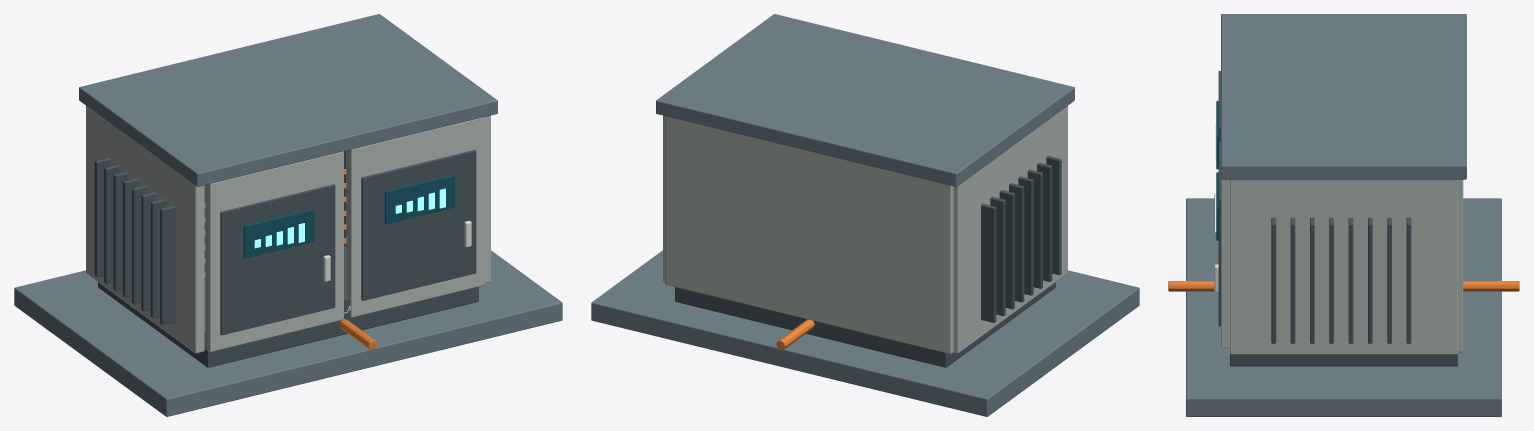
File: solar_power_station_d0.glb
3 views of the same model, side by side, from view 1: azimuth 30°, elevation 25°; view 2: azimuth 150°, elevation 25°; view 3: azimuth 270°, elevation 25° (orthographic). The views are drawn at different scales.
Parts seen in each view (by area): view 1: INVERTER_ROOF, POWER_STATION_FOUNDATION, DOOR_INSET_001, DOOR_INSET, INVERTER_ARMORED_SIDE, INVERTER_ACCESS_DOOR, INVERTER_ACCESS_DOOR_001, INVERTER_CHASSIS, TELEMETRY_SCREEN, TELEMETRY_SCREEN_001, COOLING_FIN, COOLING_FIN_001 (+7 smaller); view 2: INVERTER_REAR_ARMOR, INVERTER_ROOF, POWER_STATION_FOUNDATION, INVERTER_ARMORED_SIDE, INVERTER_CHASSIS, COOLING_FIN_007, COOLING_FIN_003, COOLING_FIN_001, COOLING_FIN_006, COOLING_FIN, COOLING_FIN_004, COOLING_FIN_005 (+1 smaller); view 3: INVERTER_ROOF, INVERTER_ARMORED_SIDE_001, POWER_STATION_FOUNDATION, INVERTER_CHASSIS, INVERTER_ACCESS_DOOR_001, INVERTER_REAR_ARMOR, COOLING_FIN_009, COOLING_FIN_012, COOLING_FIN_015, COOLING_FIN_008, COOLING_FIN_010, COOLING_FIN_013 (+5 smaller).
Boxes of the visible parts, x1,y1,x2,y2 form: INVERTER_ROOF: (79,14,497,186); POWER_STATION_FOUNDATION: (14,250,562,416); DOOR_INSET_001: (361,150,476,300); DOOR_INSET: (220,184,335,335); INVERTER_ARMORED_SIDE: (86,106,204,353); INVERTER_ACCESS_DOOR: (205,151,343,351); INVERTER_ACCESS_DOOR_001: (346,117,484,317); INVERTER_CHASSIS: (98,245,478,367); TELEMETRY_SCREEN: (243,209,314,258); TELEMETRY_SCREEN_001: (384,174,455,223); COOLING_FIN: (160,205,175,324); COOLING_FIN_001: (150,198,166,317); INVERTER_REAR_ARMOR: (665,116,953,353); INVERTER_ROOF: (656,14,1074,186); POWER_STATION_FOUNDATION: (591,250,1139,416); INVERTER_ARMORED_SIDE: (953,106,1067,353); INVERTER_CHASSIS: (675,282,1055,367); COOLING_FIN_007: (981,203,996,322); COOLING_FIN_003: (1018,176,1033,295); COOLING_FIN_001: (1037,162,1052,281); COOLING_FIN_006: (990,196,1005,316); COOLING_FIN: (1046,156,1061,275); COOLING_FIN_004: (1009,183,1024,302); COOLING_FIN_005: (999,190,1014,309); INVERTER_ROOF: (1221,14,1466,179); INVERTER_ARMORED_SIDE_001: (1230,179,1457,354); POWER_STATION_FOUNDATION: (1186,198,1501,416); INVERTER_CHASSIS: (1230,354,1457,366); INVERTER_ACCESS_DOOR_001: (1221,179,1229,347); INVERTER_REAR_ARMOR: (1458,179,1463,352); COOLING_FIN_009: (1290,217,1295,343); COOLING_FIN_012: (1348,217,1353,343); COOLING_FIN_015: (1406,217,1411,343); COOLING_FIN_008: (1271,217,1276,343); COOLING_FIN_010: (1310,217,1314,343); COOLING_FIN_013: (1368,217,1372,343).
Size of the model in its own units: 5.4 by 2.86 by 4.
